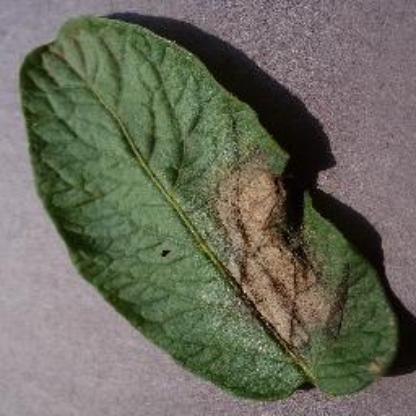Late-Blight: (12, 13, 412, 407)
